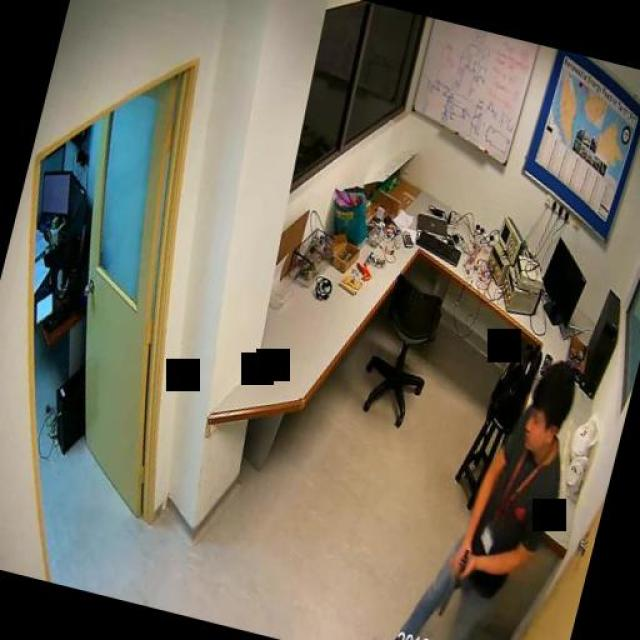gun: (433, 540, 472, 621)
